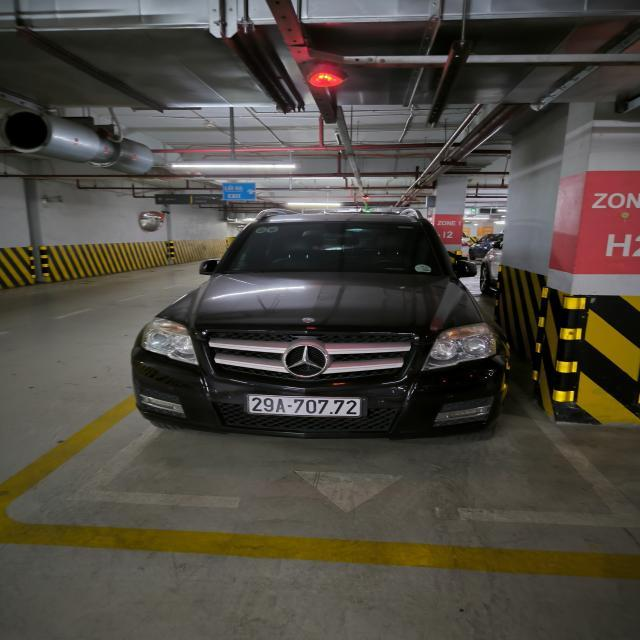license: (245, 393, 365, 419)
